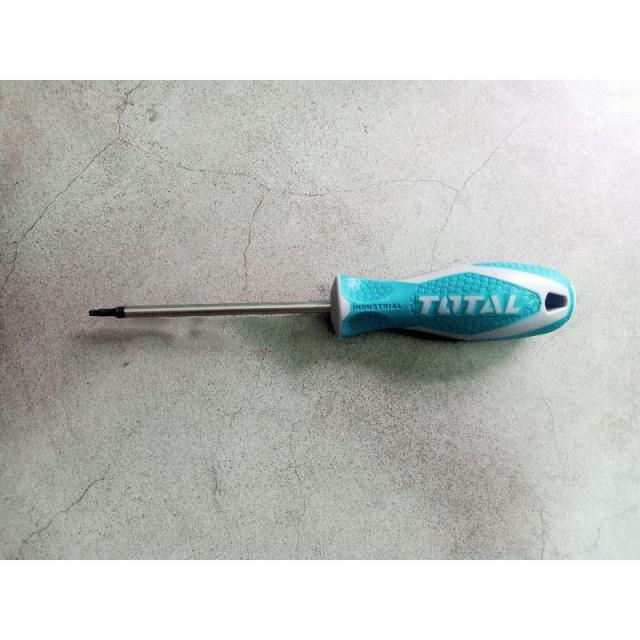screwdriver: (86, 262, 577, 345)
